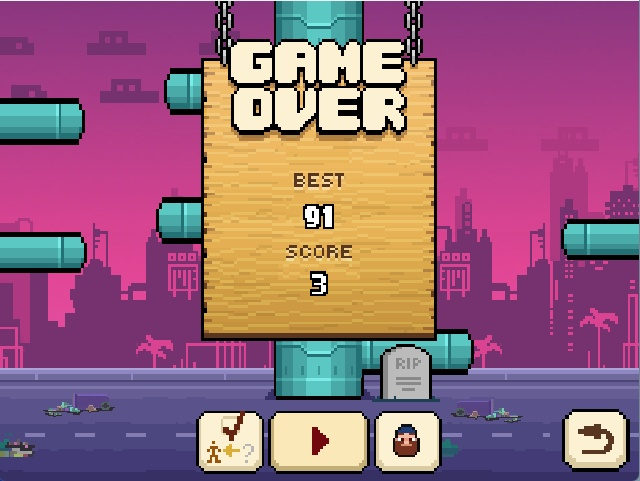game_over: (225, 39, 411, 141)
